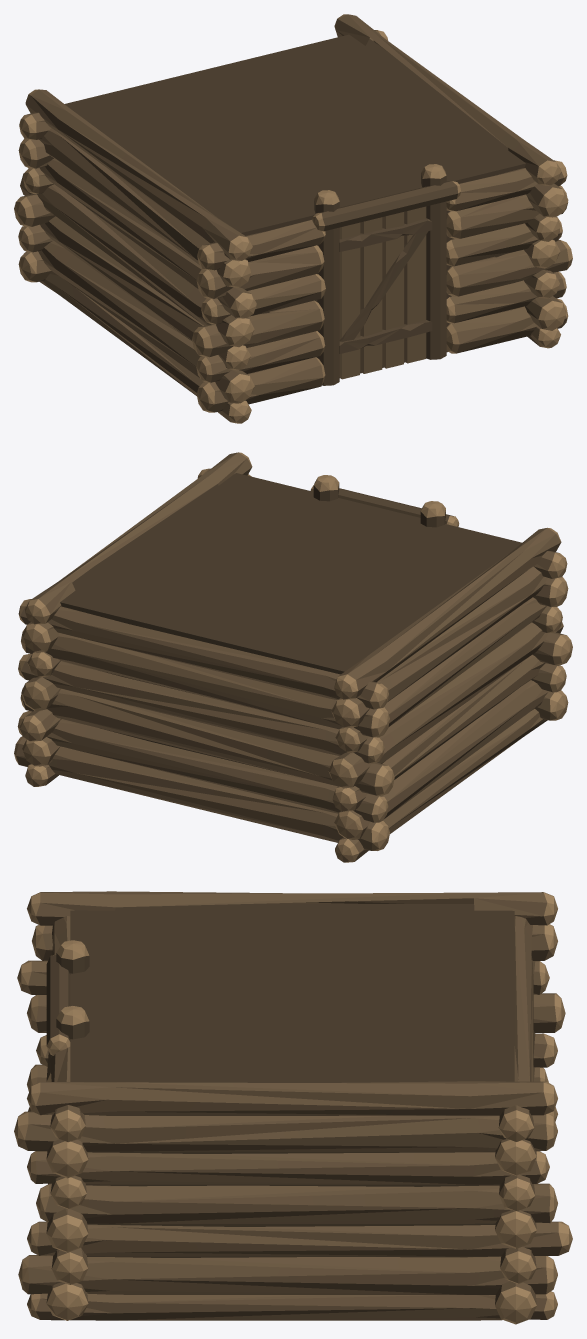
The picture shows the model from 3 angles, top to bottom: view 1: azimuth 30°, elevation 25°; view 2: azimuth 150°, elevation 25°; view 3: azimuth 270°, elevation 25°; orthographic projection. The views are drawn at different scales.
Parts seen in each view (by area): view 1: SM_Bld_Base_Door_01; view 2: SM_Bld_Base_Door_01; view 3: SM_Bld_Base_Door_01.
Part boxes in pixels (x1=…): SM_Bld_Base_Door_01: x1=14, y1=14, x2=572, y2=423; SM_Bld_Base_Door_01: x1=14, y1=452, x2=572, y2=862; SM_Bld_Base_Door_01: x1=14, y1=891, x2=572, y2=1324.
Size of the model in its own units: 4.96 by 2.49 by 5.09.
1 material, 1 textured.
